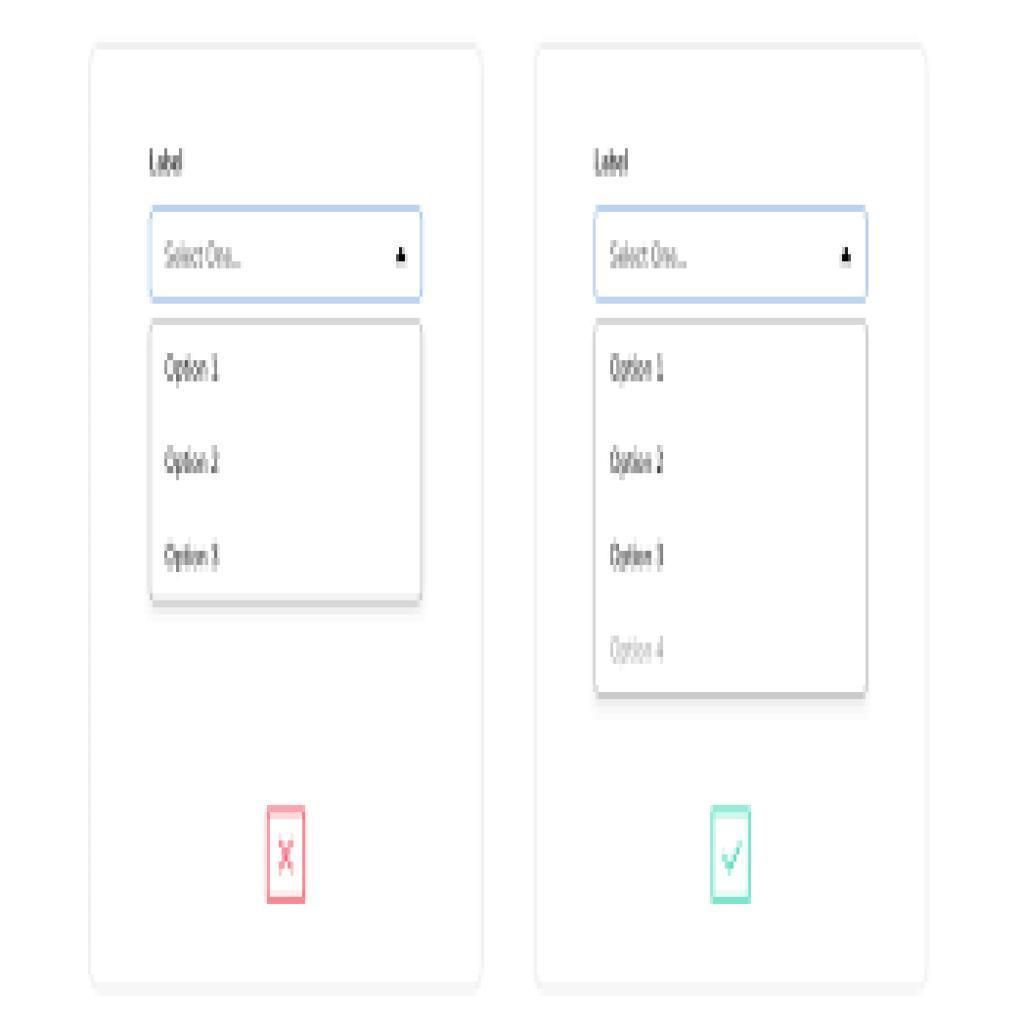checkbox: (713, 811, 751, 903)
dropdown: (149, 207, 425, 306), (593, 207, 871, 304)
